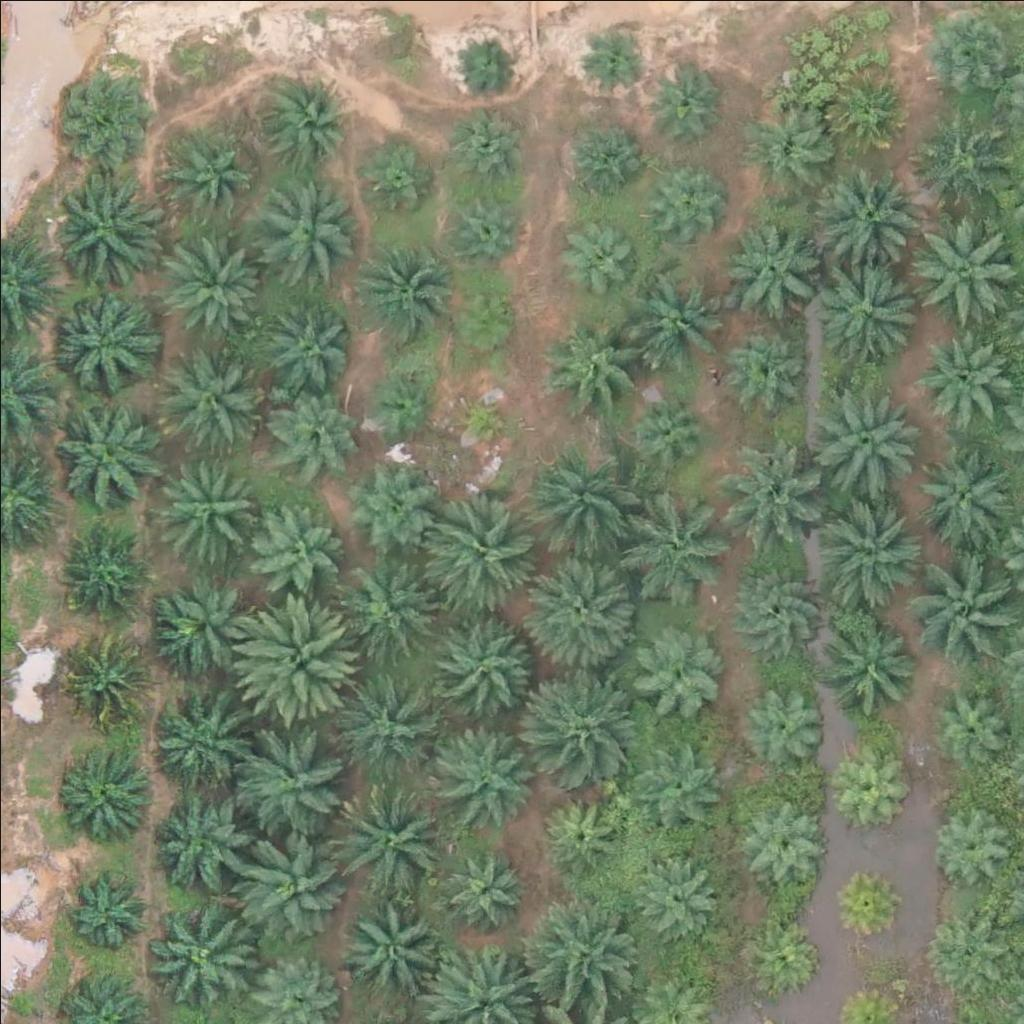Kelapa_Sawit: (228, 594, 353, 720), (238, 728, 351, 842), (814, 385, 927, 499), (48, 397, 161, 510), (44, 286, 157, 399), (336, 781, 449, 894), (332, 669, 445, 782), (425, 614, 538, 727), (528, 553, 641, 666), (809, 159, 922, 272), (817, 255, 930, 368), (144, 898, 257, 1011), (521, 896, 634, 1009), (231, 823, 344, 936), (529, 450, 641, 564), (812, 489, 924, 603), (910, 212, 1022, 326), (46, 174, 158, 287), (433, 713, 545, 826), (428, 496, 540, 609), (531, 662, 643, 775), (718, 445, 830, 558), (51, 748, 151, 849), (55, 59, 155, 160), (144, 689, 244, 790), (158, 452, 258, 553), (163, 340, 263, 441), (167, 232, 267, 333), (341, 560, 441, 661), (339, 459, 439, 560), (547, 311, 647, 412), (633, 262, 733, 363), (633, 490, 733, 591), (723, 214, 823, 315), (820, 614, 920, 715), (917, 446, 1017, 547), (915, 109, 1015, 210), (338, 896, 438, 997), (348, 245, 448, 346), (149, 783, 249, 883), (159, 583, 259, 683), (256, 181, 356, 281), (626, 625, 726, 725), (728, 557, 828, 657), (64, 637, 152, 725), (271, 385, 359, 473), (446, 102, 534, 190), (827, 64, 915, 152), (538, 788, 626, 876), (624, 386, 712, 474), (743, 795, 831, 883), (917, 326, 1005, 414), (921, 897, 1009, 985), (65, 868, 153, 956), (438, 843, 526, 931), (269, 297, 356, 386), (639, 737, 726, 826), (62, 529, 149, 617), (162, 127, 249, 215), (260, 78, 347, 166), (254, 505, 341, 593), (437, 183, 524, 271), (742, 679, 829, 767), (720, 317, 807, 405), (743, 97, 830, 185), (926, 799, 1013, 887), (929, 675, 1016, 763), (927, 5, 1014, 93), (632, 855, 719, 943), (749, 921, 824, 997), (566, 212, 641, 288), (564, 124, 639, 200), (365, 364, 440, 440), (446, 277, 521, 353), (832, 741, 907, 817), (827, 868, 902, 944), (358, 143, 433, 218), (646, 158, 721, 233), (648, 58, 723, 133), (587, 29, 650, 92), (455, 33, 517, 96), (452, 389, 514, 452)
